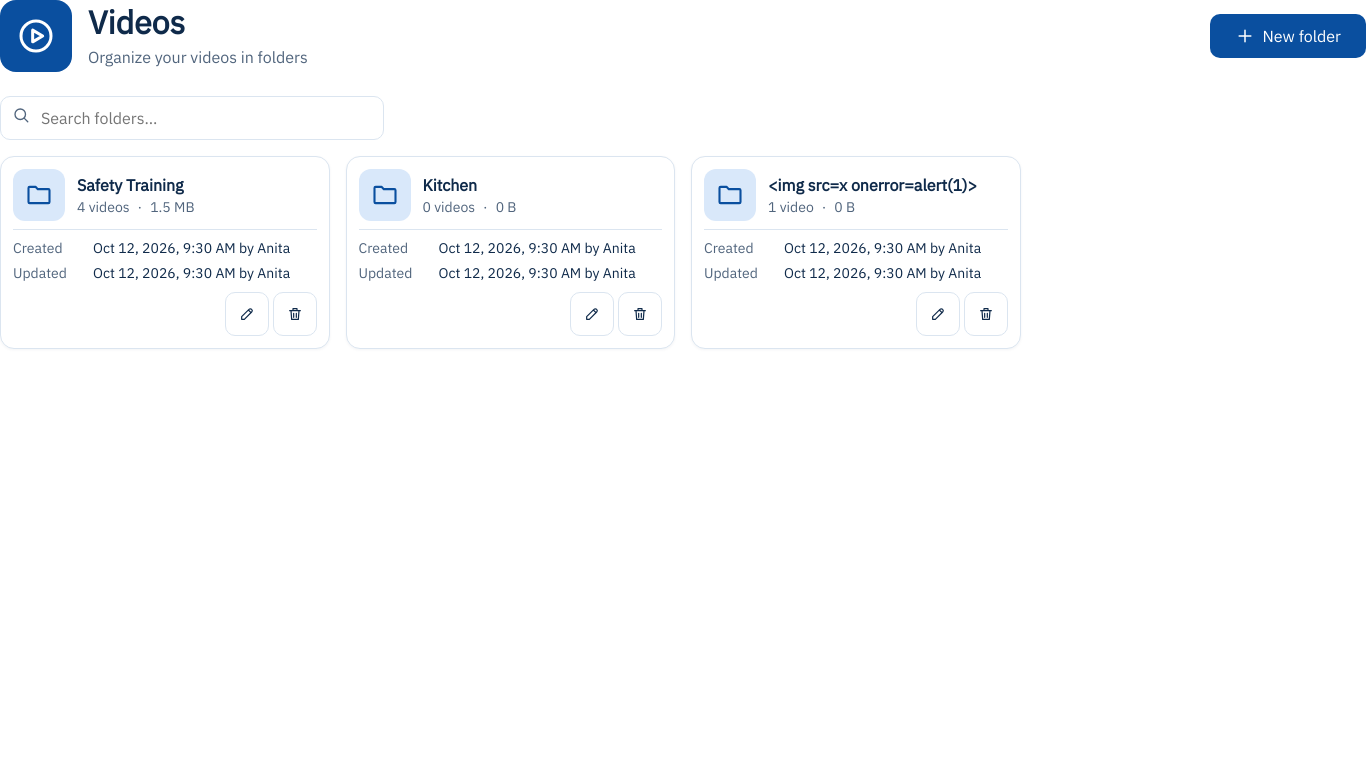
Scenario: CategoryPage › creates a folder and shows it
This screenshot has width=1366, height=768.
Click the button "New folder" at (1288, 36), box [1210, 14, 1365, 58]
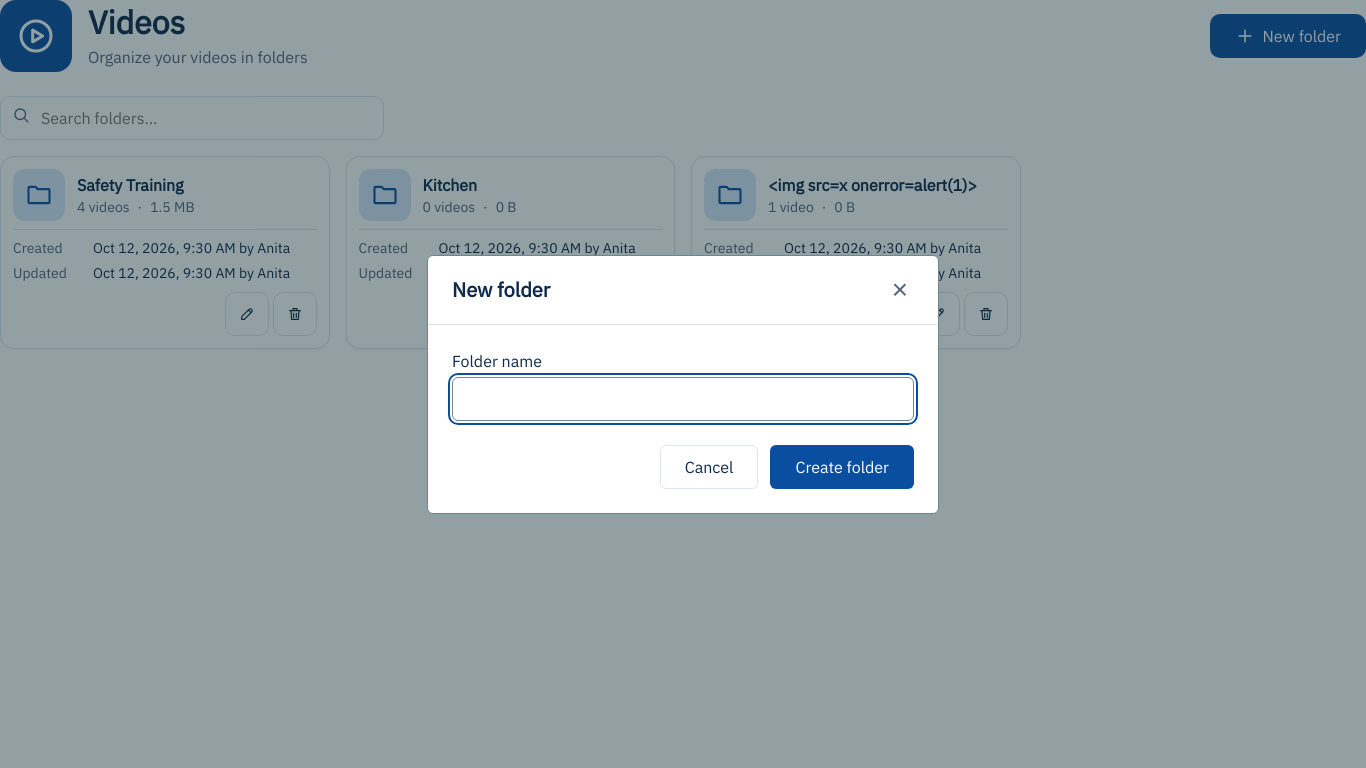
Type "  Orientation " into the field labelled "Folder name" at (683, 398), box [452, 376, 914, 420]
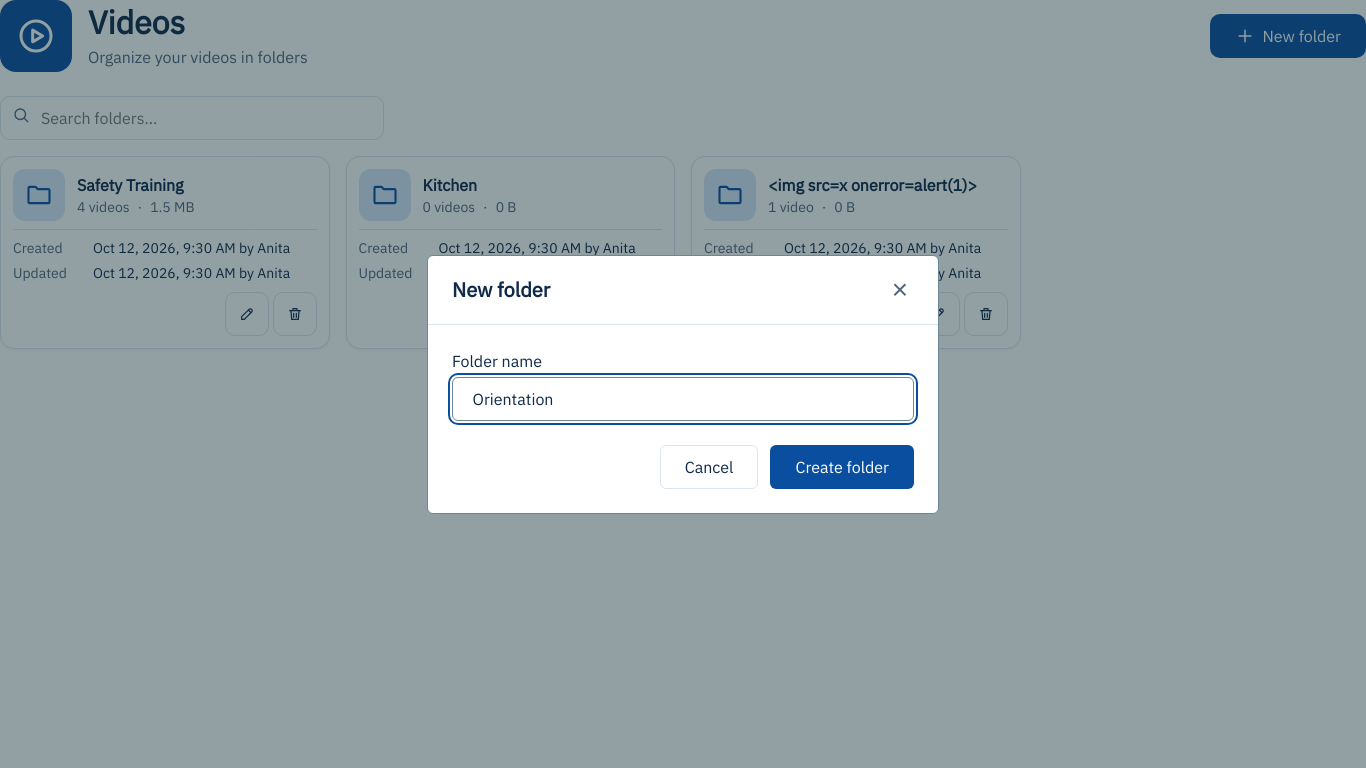
Click the button "Create folder" at (842, 466), box [770, 444, 914, 488]
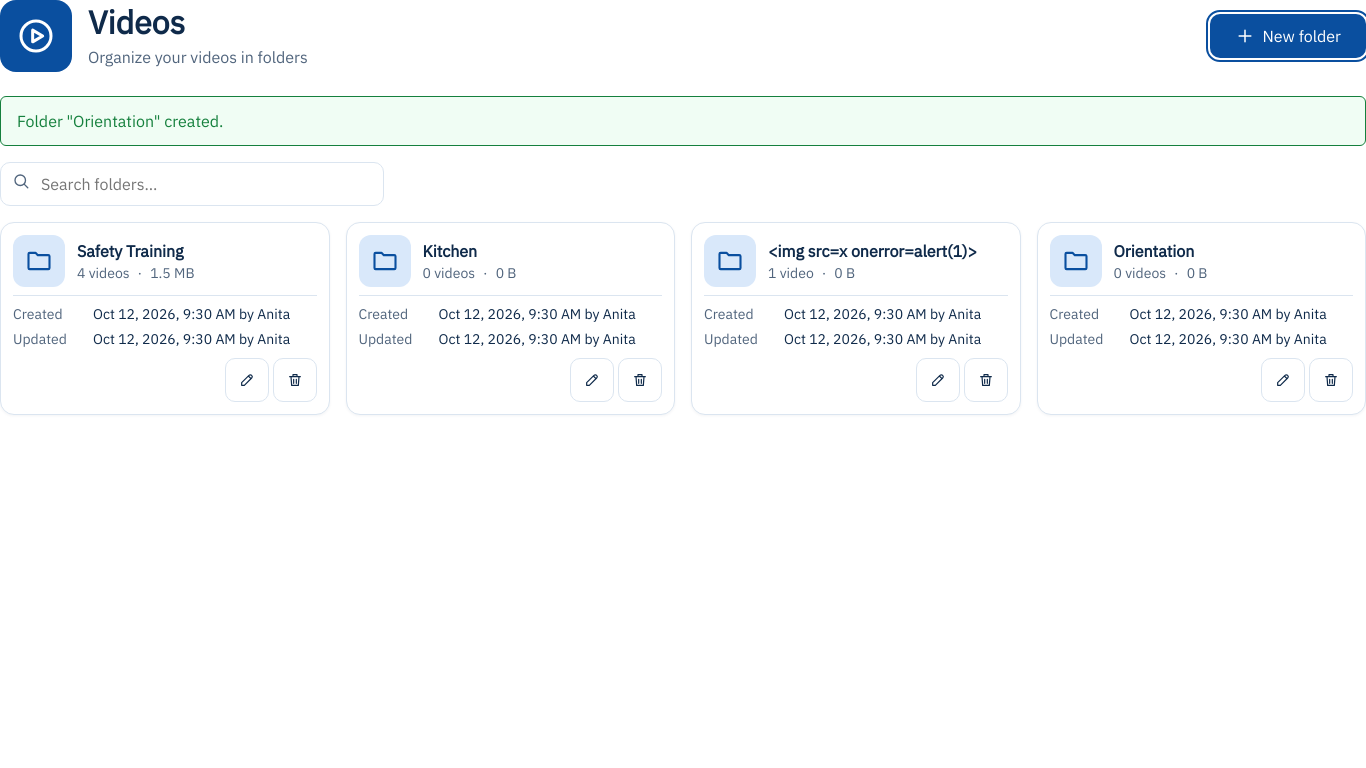
Expected: the text "Folder \"Orientation\" created." is shown, [0, 96, 1365, 146]
Expected: the link named "Open Orientation" is shown, [1050, 235, 1208, 287]
